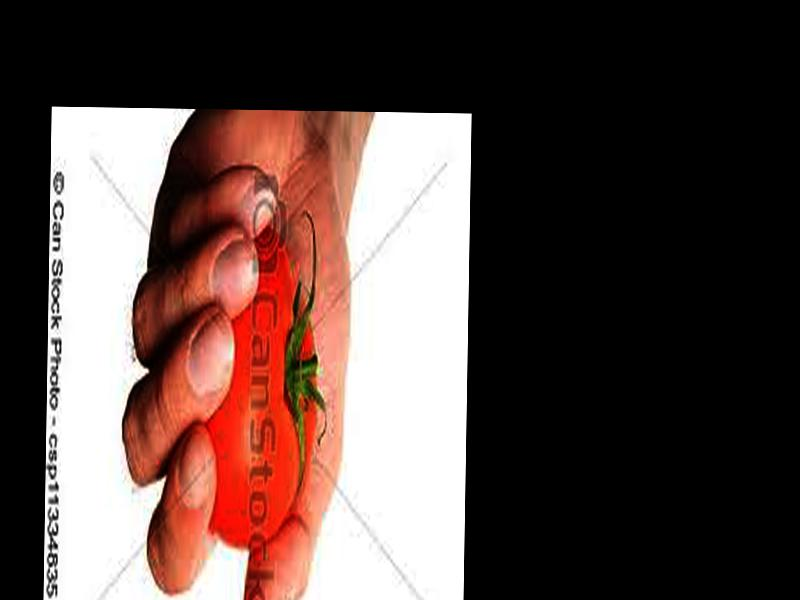Tomato: (206, 228, 317, 549)
